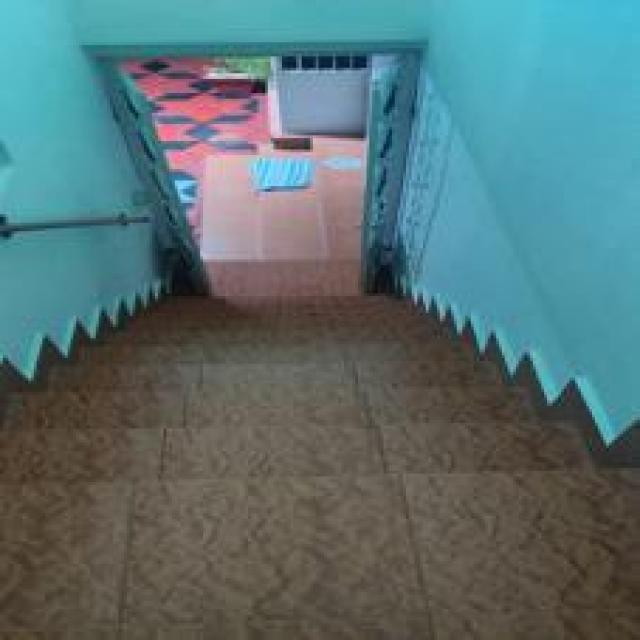downstair: (32, 339, 489, 551)
